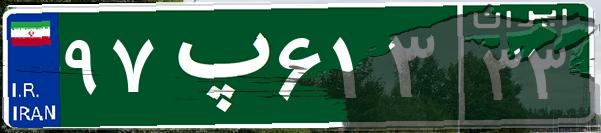1: (330, 28, 385, 110)
3: (385, 28, 445, 110), (475, 38, 525, 113), (525, 38, 570, 115)
6: (273, 28, 330, 110)
7: (110, 28, 158, 105)
9: (57, 26, 110, 107)
پ: (158, 15, 273, 115)
